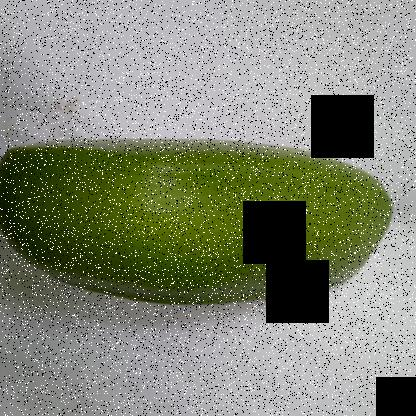freshunripe: (0, 126, 401, 317)
